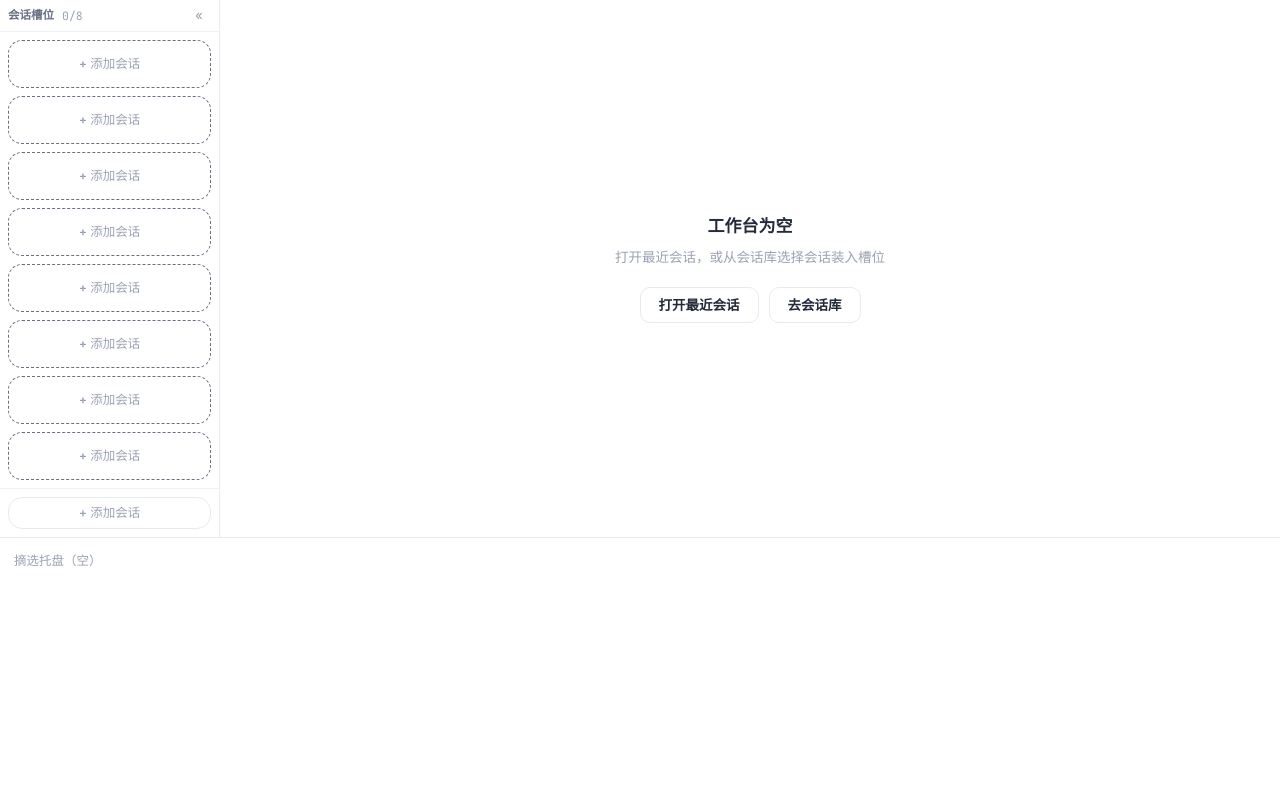
it: WorkspaceView (t224) › 会话选择弹窗：点空槽打开、点会话装入目标槽位
Click the button with aria-label "槽位 1（空）" at [110, 64], box [8, 40, 211, 88]
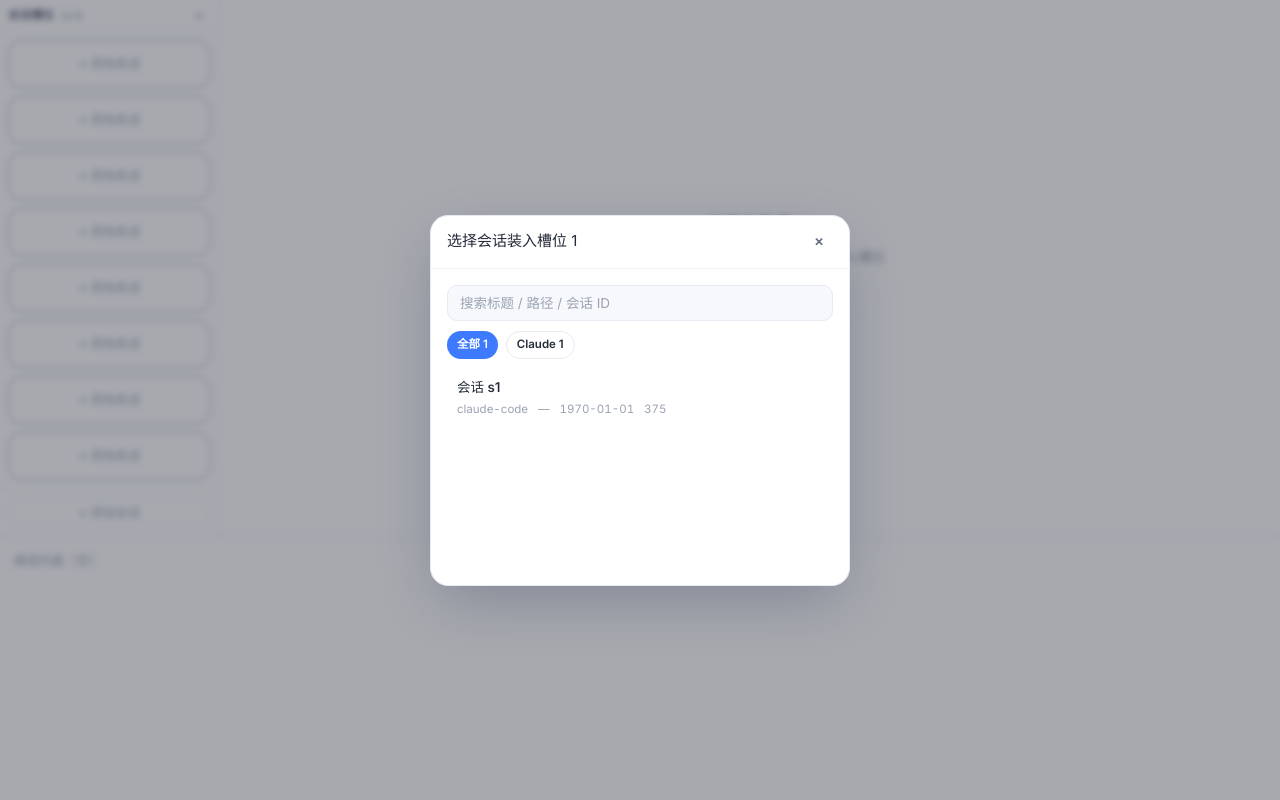
Now the dialog "选择会话" is shown
Now the text "会话 s1" is shown
Click the text "会话 s1" at [479, 387], box [457, 376, 500, 397]
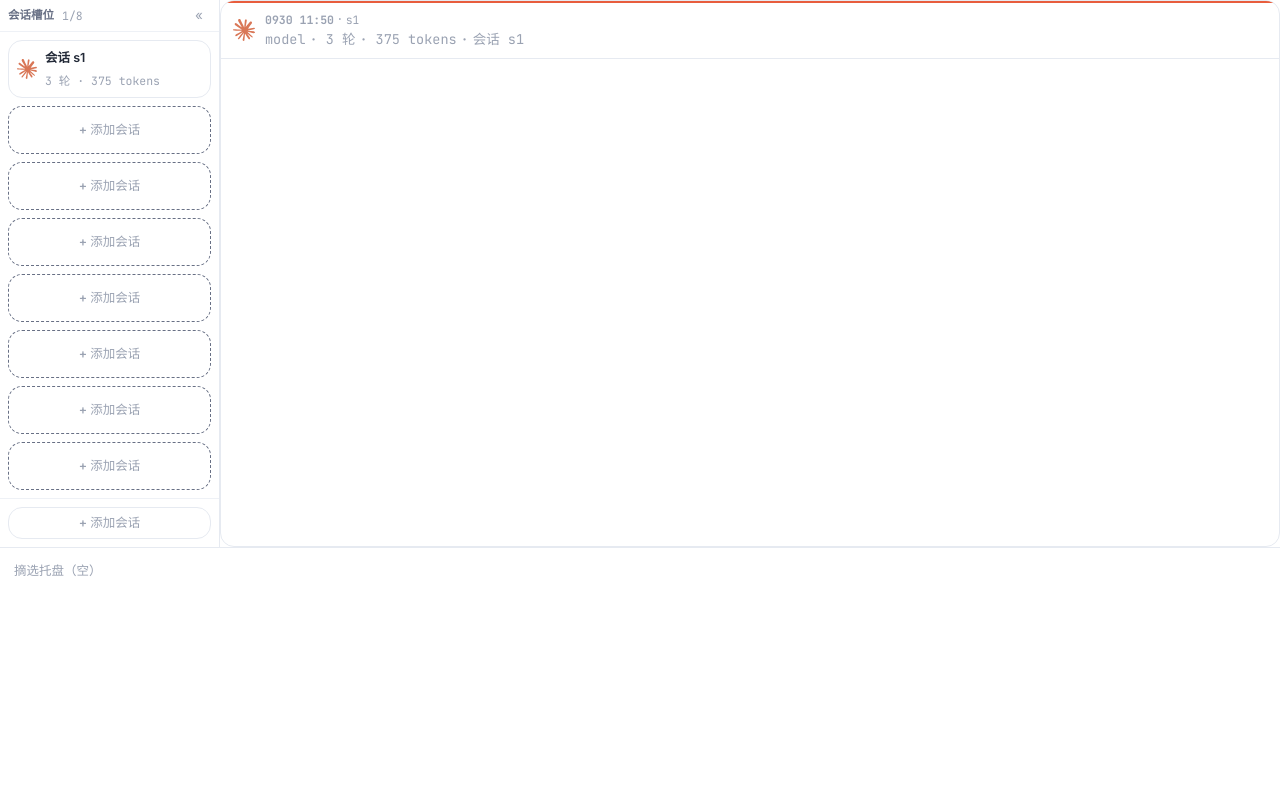
Now the number of elements with test id "session-slot-title" is 1, box [45, 50, 85, 65]
